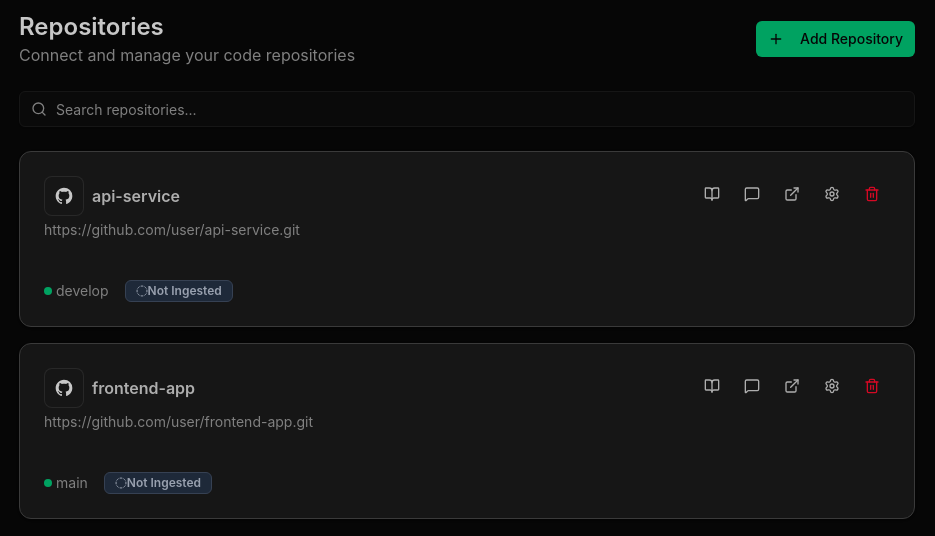
Test: ReposView › filters repositories as the user types in the search box
Expected: the text "frontend-app" is shown, [92,376,195,400]
Expected: the text "api-service" is shown, [92,184,180,208]
Step 1. Type "api" into the field labelled "Search repositories..." → (467, 109), box [19,91,915,127]
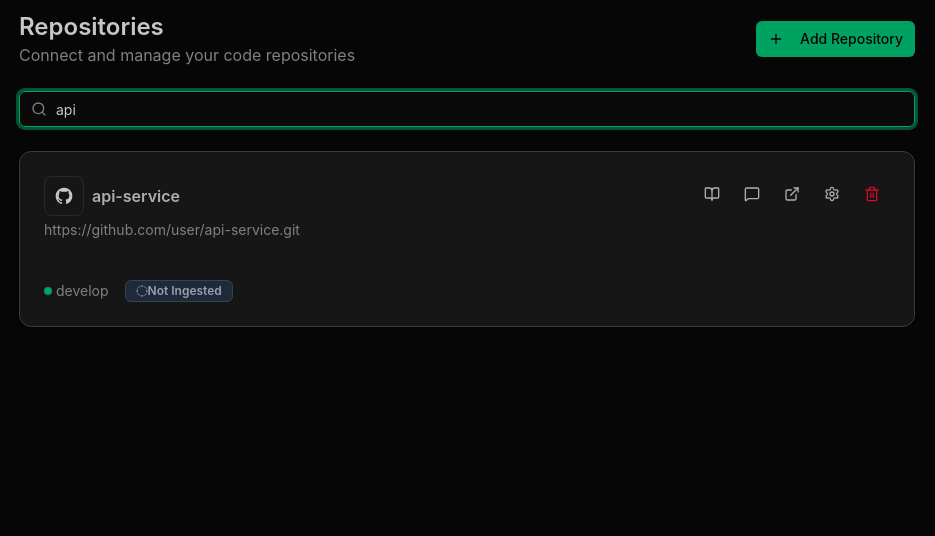
Expected: the text "api-service" is shown, [92,184,180,208]
Result: the text "frontend-app" is gone
Step 2. Clear the field named "Search repositories" → (467, 109), box [19,91,915,127]
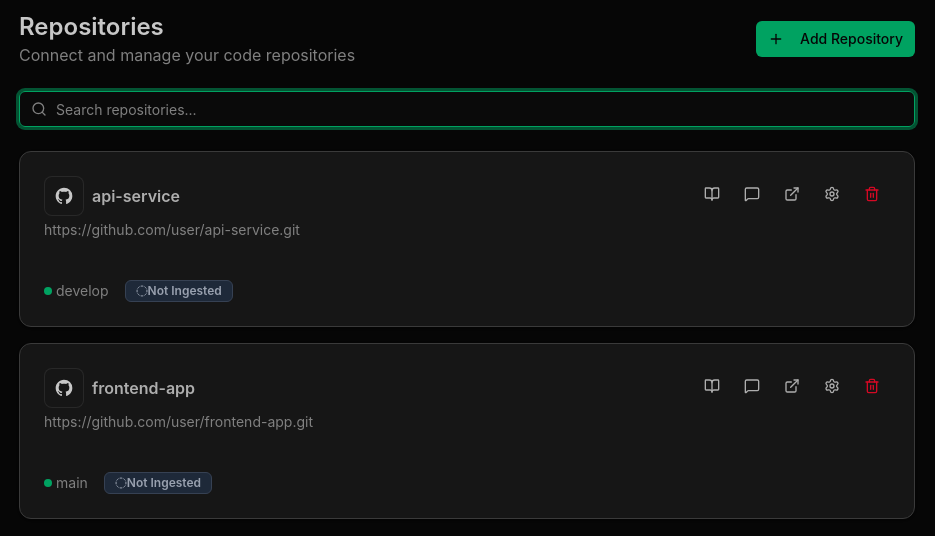
Expected: the text "api-service" is shown, [92,184,180,208]
Result: the text "frontend-app" is shown at [92,376,195,400]
